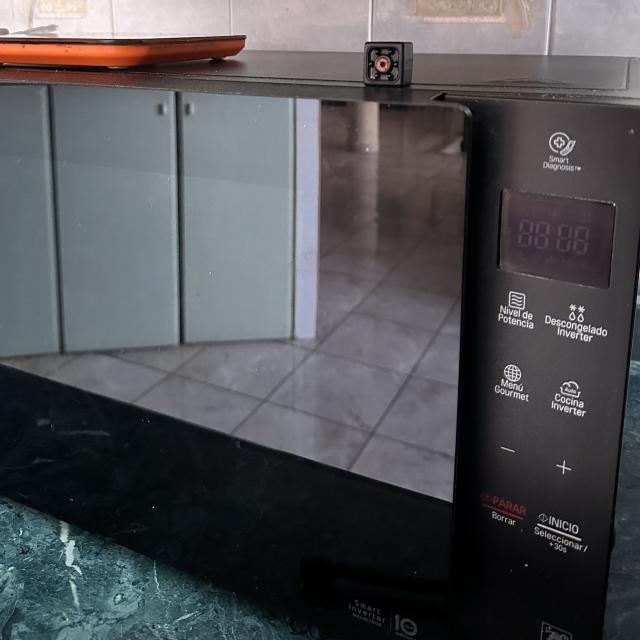hidden camera: (375, 55, 392, 74)
